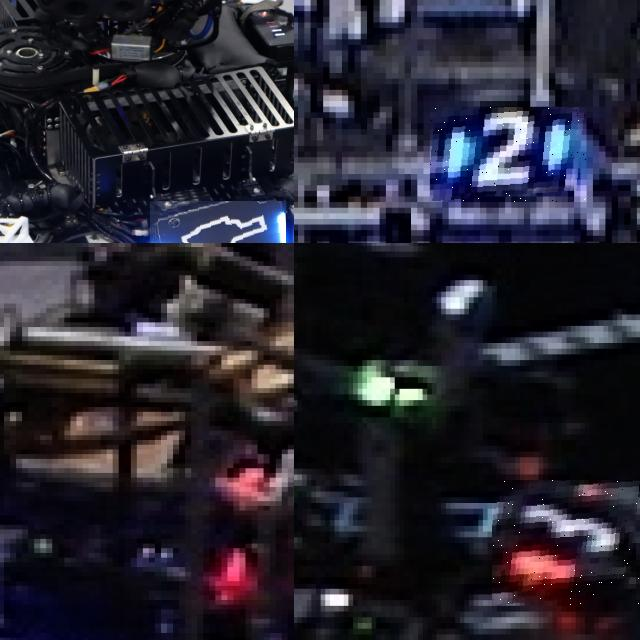B2: (430, 107, 586, 202)
Bs: (150, 201, 285, 243)
R3: (492, 480, 640, 605)
